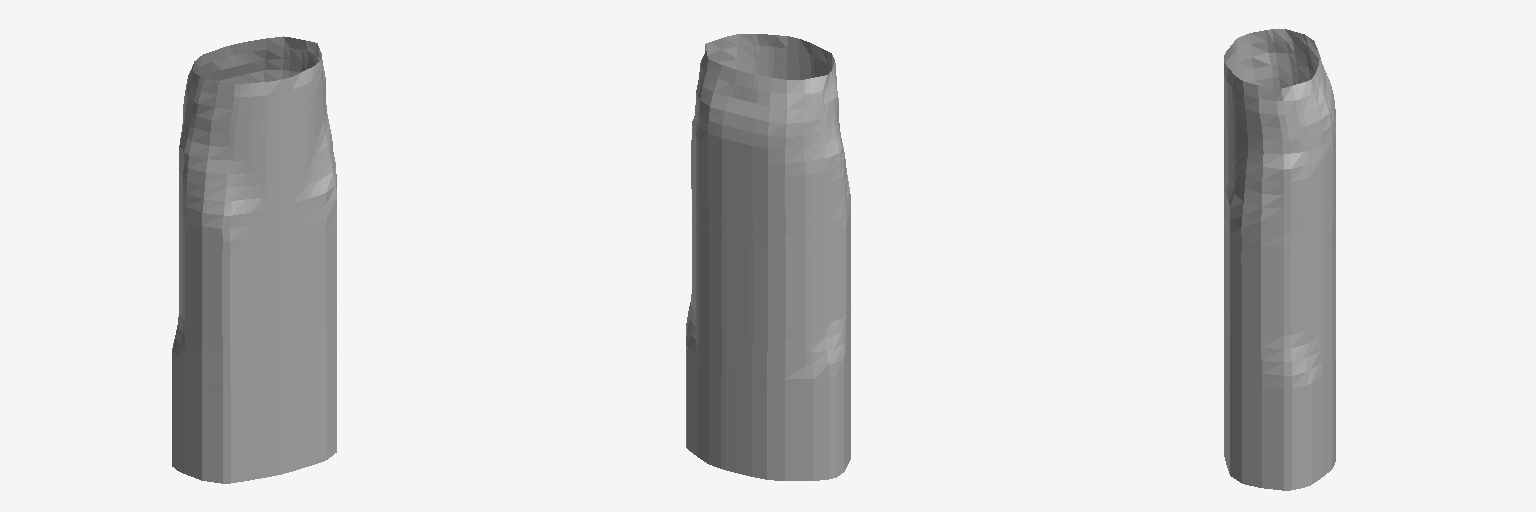
The model's file is Skirt.obj.
3 renders of one model, left to right at view 1: azimuth 30°, elevation 25°; view 2: azimuth 150°, elevation 25°; view 3: azimuth 270°, elevation 25°, orthographic.
Size of the model in its own units: 3.77 by 9.3 by 2.4.